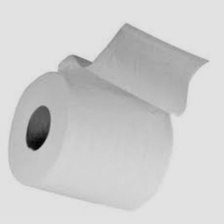tissue: (2, 17, 213, 216)
